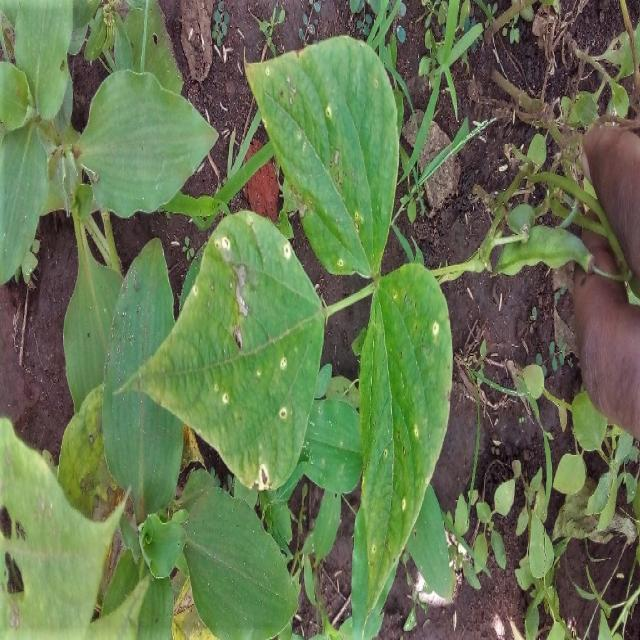hawar: (260, 63, 411, 264), (166, 363, 374, 480), (377, 298, 424, 549), (211, 230, 289, 347)
